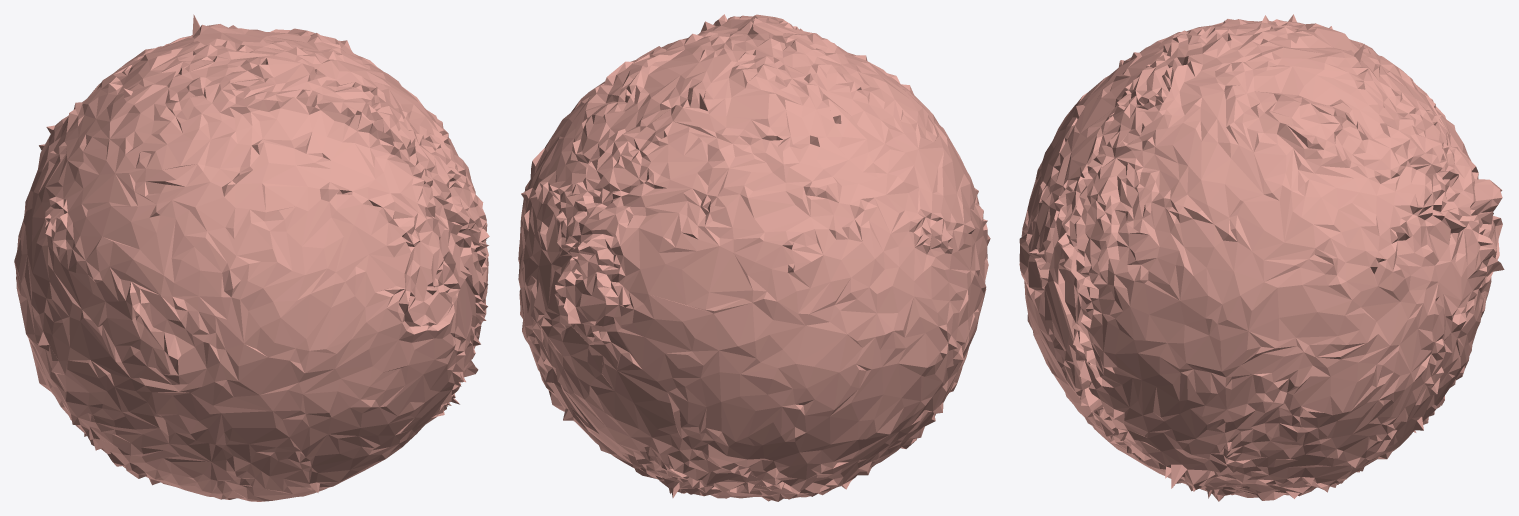
Rendered from venus.glb.
3 renders of one model, left to right at view 1: azimuth 30°, elevation 25°; view 2: azimuth 150°, elevation 25°; view 3: azimuth 270°, elevation 25°, orthographic.
Parts seen in each view (by area): view 1: Venus; view 2: Venus; view 3: Venus.
Boxes of the visible parts, x1=… form: Venus: x1=14, y1=14, x2=489, y2=501; Venus: x1=518, y1=14, x2=990, y2=501; Venus: x1=1019, y1=14, x2=1504, y2=501.
Size of the model in its own units: 0.3134 by 0.3149 by 0.3164.
